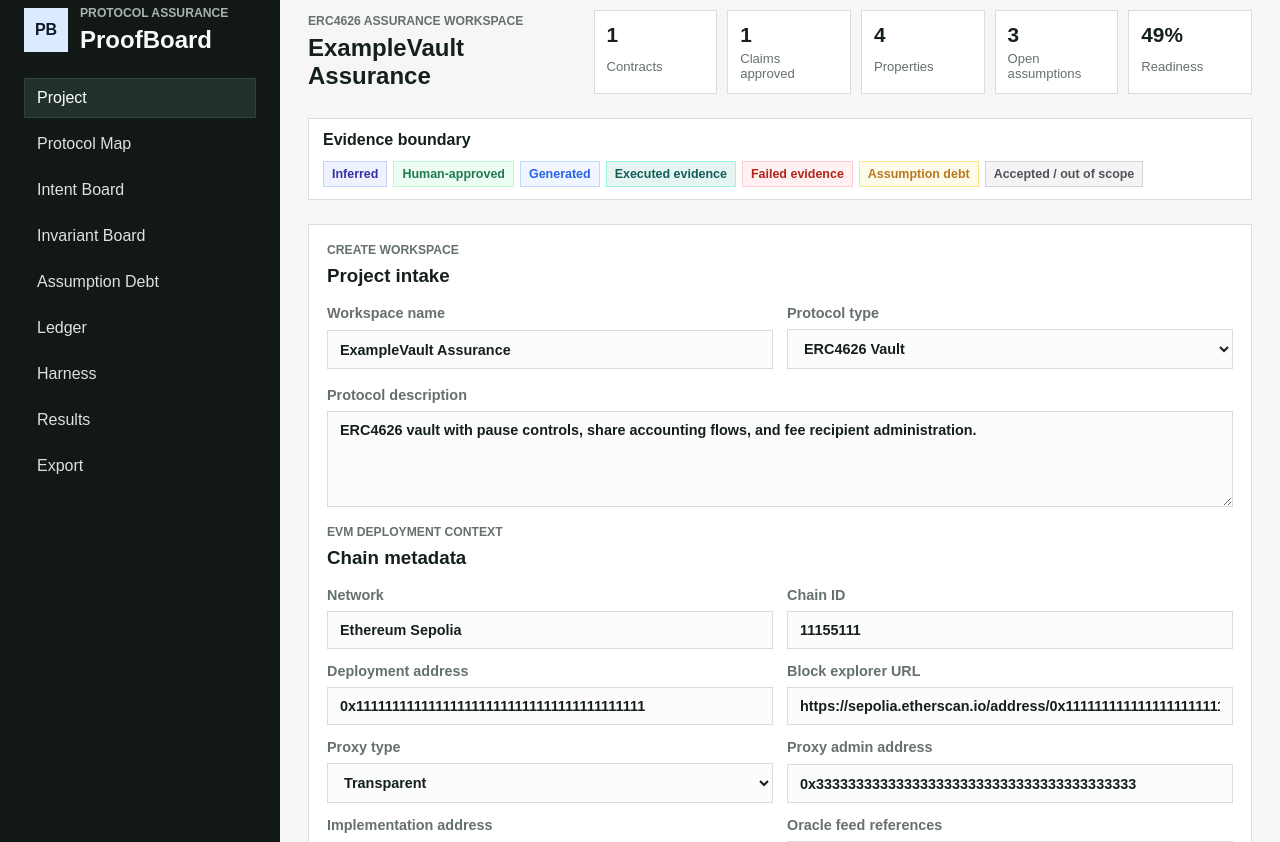
Scenario: ProofBoard workspace › reports Foundry parser failures clearly
Click the button "Results" at point(140, 420), box [24,400,256,440]
(page scrolled)
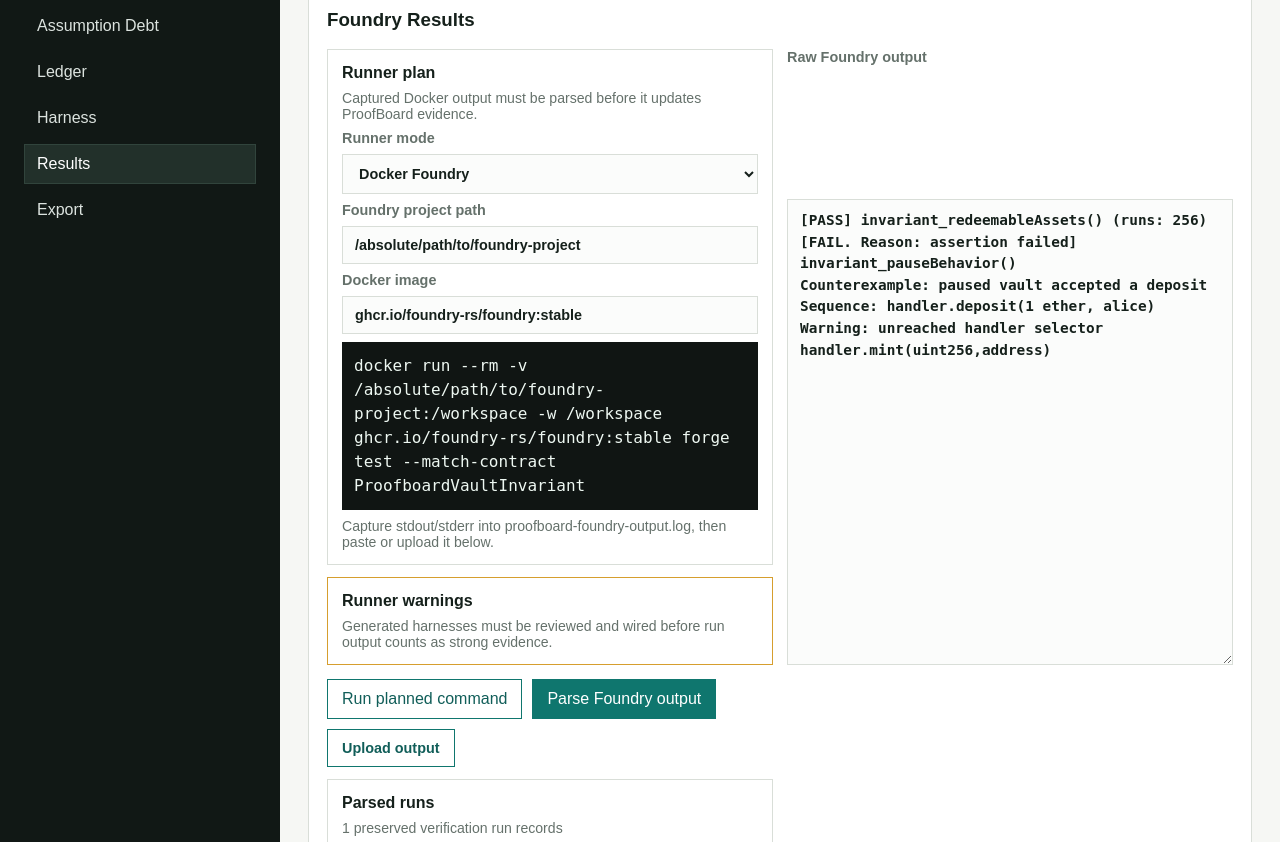
Replace the text in the text box labelled "Raw Foundry output" with "build complete" at point(1010, 432), box [787,199,1233,665]
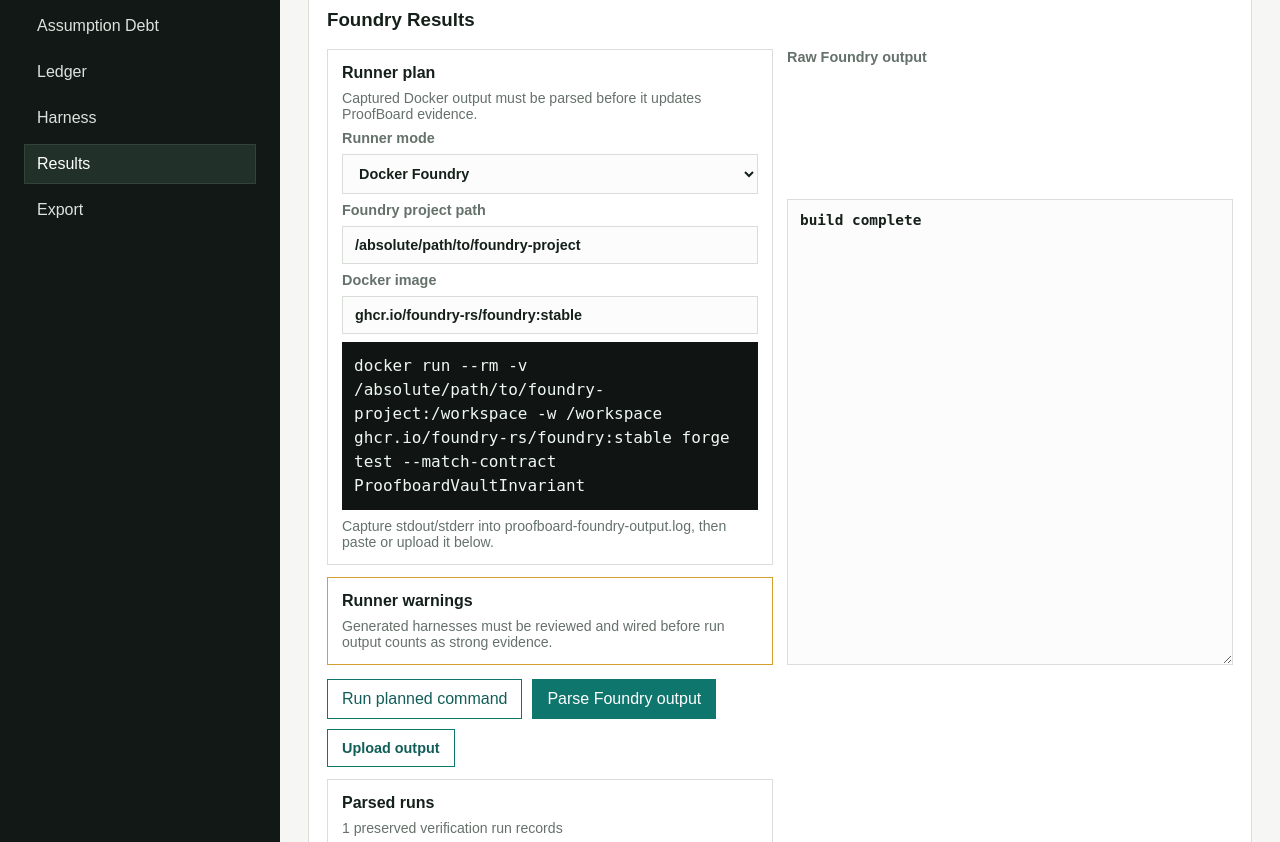
Click the button "Parse Foundry output" at point(624, 699), box [532,679,716,719]
(page scrolled)
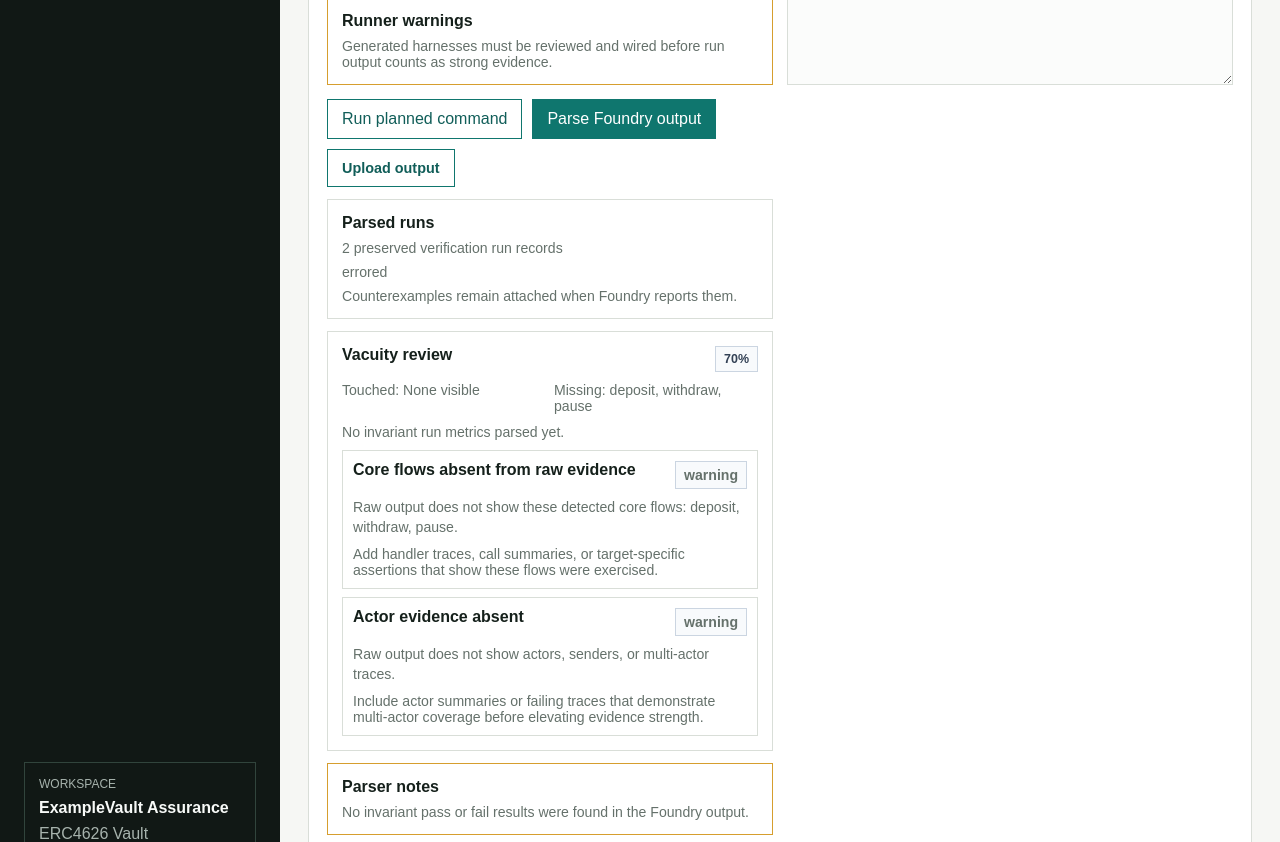
Result: the text "Parser notes" is shown at [342,778,439,795]
Result: the text "No invariant pass or fail results were found in the Foundry output." is shown at [342,804,758,820]
